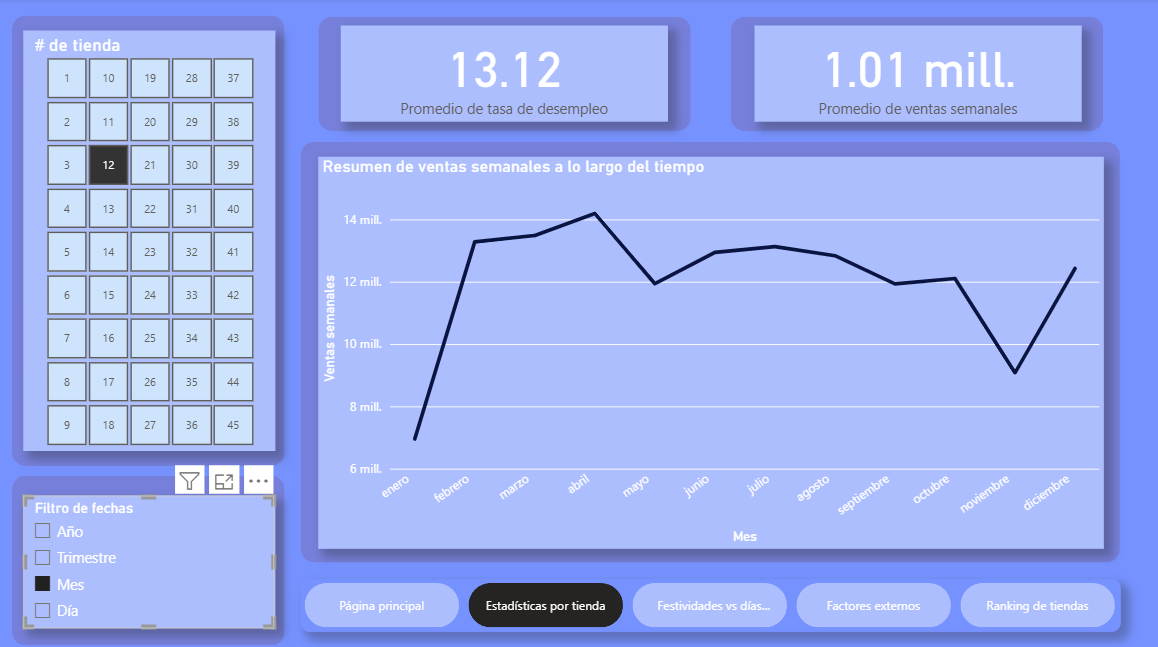

The dashboard page shown, as its layout file describes it:
{"tool":"powerbi","page":{"name":"Estadísticas por tienda","canvas":[1280,720],"ordinal":1},"visuals":[{"type":"shape","box":[17.1,18.5,299.3,494.6],"z":0},{"type":"slicer","fields":{"Values":["Walmart.Store"]},"box":[28.5,35.6,276.5,461.8],"z":1000},{"type":"shape","box":[17.1,524.5,299.3,186.7],"z":2000},{"type":"slicer","fields":{"Values":["Parámetro.Parámetro"]},"box":[28.5,545.9,276.5,145.4],"z":3000},{"type":"shape","box":[333.5,158.2,899.4,461.8],"z":4000},{"type":"lineChart","title":"Resumen de ventas semanales a lo largo del tiempo","fields":{"Category":["Walmart.Date.Variación.Jerarquía de fechas.Año","Walmart.Date.Variación.Jerarquía de fechas.Trimestre","Walmart.Date.Variación.Jerarquía de fechas.Mes","Walmart.Date.Variación.Jerarquía de fechas.Día"],"Y":["Sum(Walmart.Weekly_Sales)"]},"box":[352.1,173.9,862.4,430.5],"z":5000},{"type":"shape","box":[352.1,20,409.1,125.4],"z":6000},{"type":"shape","box":[805.3,20,409.1,125.4],"z":7000},{"type":"card","fields":{"Values":["Avg(Walmart.Weekly_Sales)"]},"box":[831,29.9,359.2,105.5],"z":8000},{"type":"card","fields":{"Values":["Avg(Walmart.Unemployment)"]},"box":[377.7,29.9,359.2,105.5],"z":9000},{"type":"pageNavigator","box":[333.4,638.1,900.2,57.6],"z":10000}]}

Visuals, with their boxes in screenshot pixels (x1, y1, x2, y2), scaled from the page's 1280x720 canvas onto the 1158x647 screenshot:
shape: (left=15, top=17, right=286, bottom=461)
slicer - Walmart.Store: (left=26, top=32, right=276, bottom=447)
shape: (left=15, top=471, right=286, bottom=639)
slicer - Parámetro.Parámetro: (left=26, top=491, right=276, bottom=621)
shape: (left=302, top=142, right=1115, bottom=557)
"Resumen de ventas semanales a lo largo del tiempo" lineChart: (left=319, top=156, right=1099, bottom=543)
shape: (left=319, top=18, right=689, bottom=131)
shape: (left=729, top=18, right=1099, bottom=131)
card - Avg(Walmart.Weekly_Sales): (left=752, top=27, right=1077, bottom=122)
card - Avg(Walmart.Unemployment): (left=342, top=27, right=667, bottom=122)
pageNavigator: (left=302, top=573, right=1116, bottom=625)
